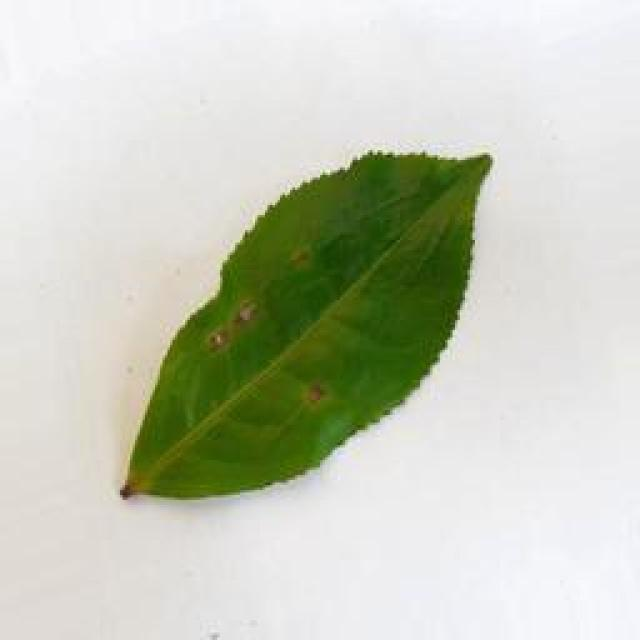Helopeltis: (106, 129, 532, 505)
